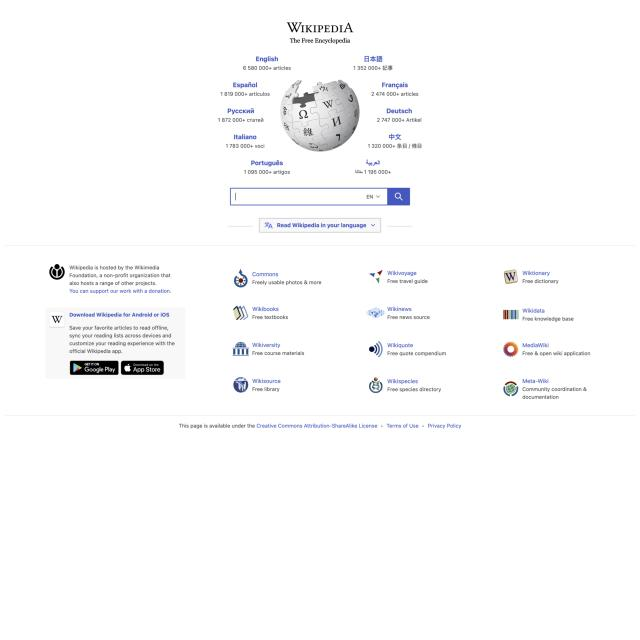footer: (1, 414, 640, 434)
input: (230, 188, 410, 205)
logo: (286, 16, 356, 48), (48, 263, 65, 283), (49, 312, 65, 327), (72, 362, 83, 373), (124, 363, 131, 373)
